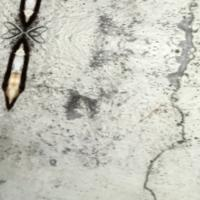crack: (123, 99, 199, 199)
